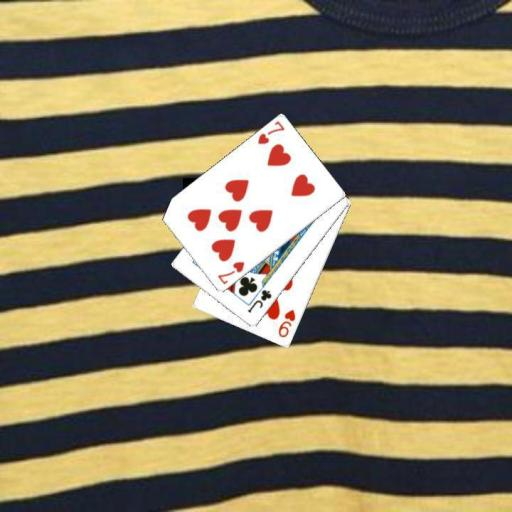card-corner: (214, 258, 246, 287), (254, 118, 286, 146), (245, 287, 273, 314), (275, 307, 297, 339)
